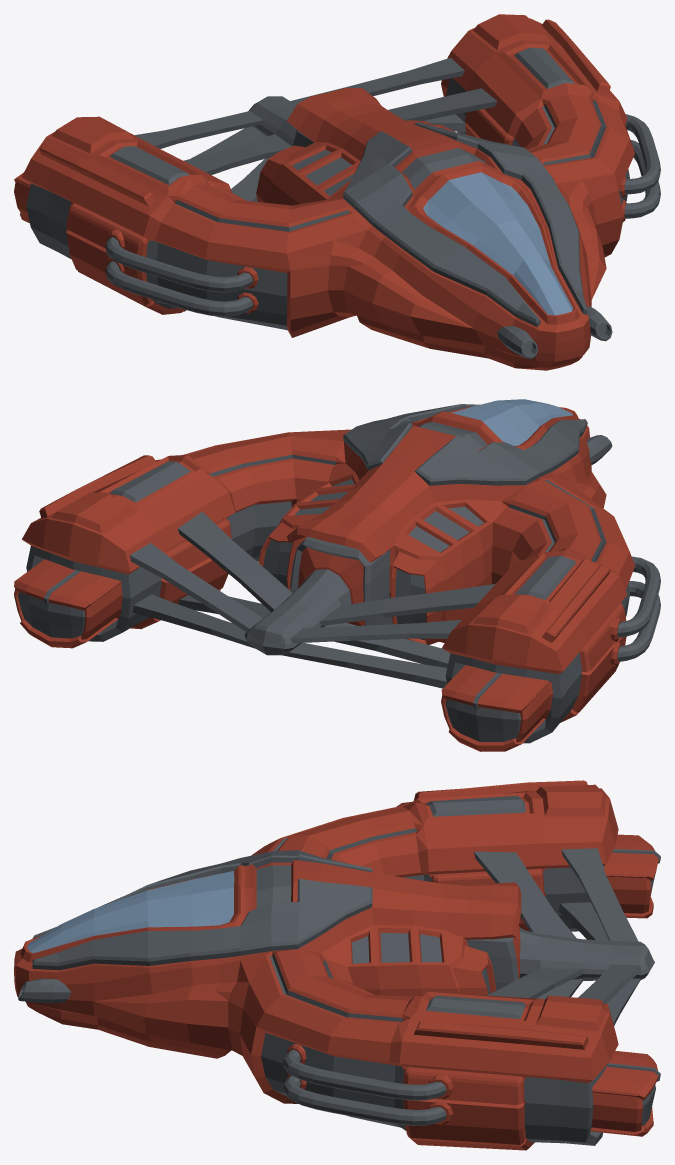
File: Fighter_08_Red.fbx
3 views of the same model, one above another, from view 1: azimuth 30°, elevation 25°; view 2: azimuth 150°, elevation 25°; view 3: azimuth 270°, elevation 25° (orthographic). The views are drawn at different scales.
Visible parts, largest first — view 1: Fighter_08_Red; view 2: Fighter_08_Red; view 3: Fighter_08_Red.
Part boxes in pixels (x1,y1,x2,y2): Fighter_08_Red: (14,14,660,370); Fighter_08_Red: (14,399,660,751); Fighter_08_Red: (14,780,660,1150).
Size of the model in its own units: 1805 by 539 by 1797.
Materials: 3 (3 with a texture image).
